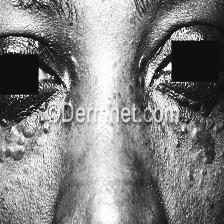Benign Marking or Mole: (165, 105, 224, 173), (0, 116, 53, 163)
